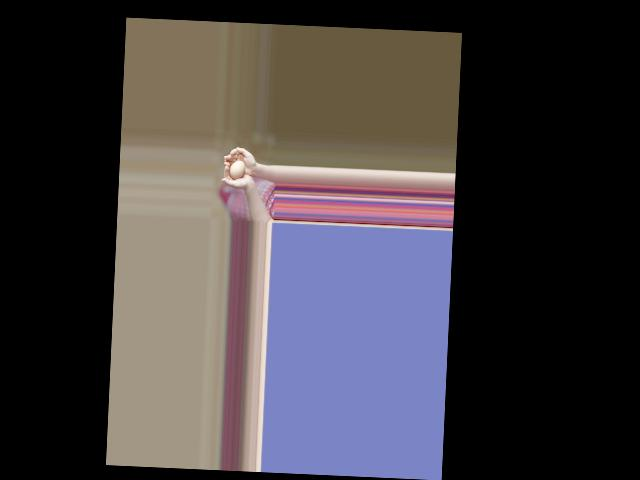egg: (228, 160, 245, 179)
